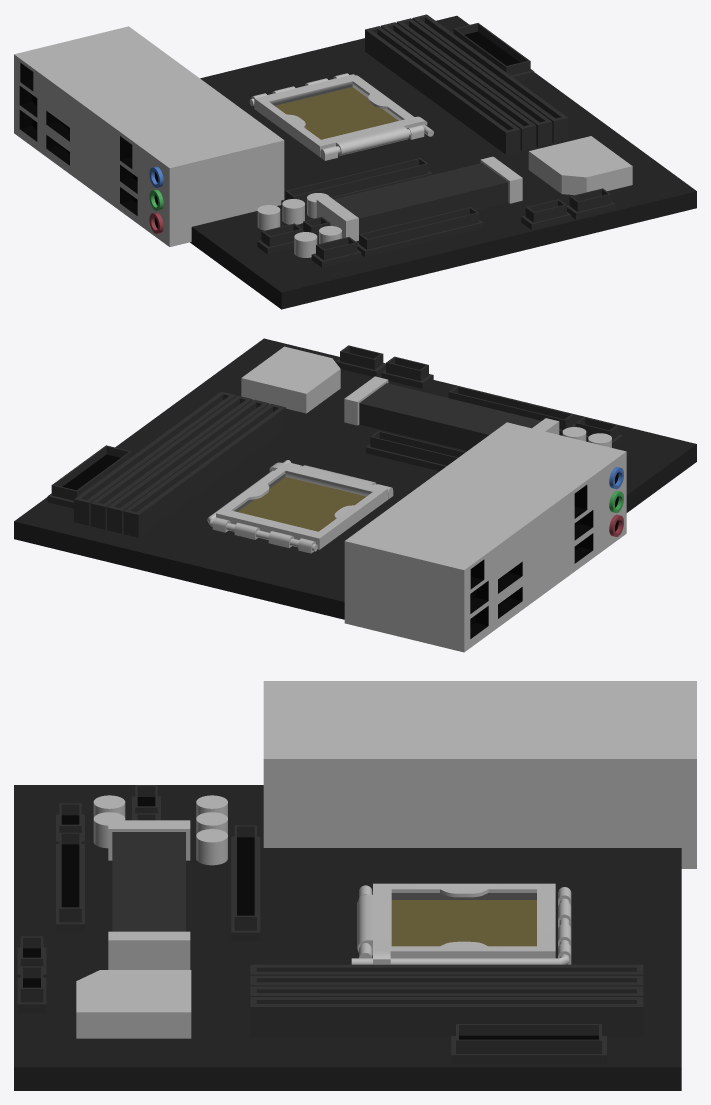
File: NSI AM4 DDR4.fbx
3 renders of one model, top to bottom at view 1: azimuth 30°, elevation 25°; view 2: azimuth 150°, elevation 25°; view 3: azimuth 270°, elevation 25°, orthographic. The views are drawn at different scales.
Parts seen in each view (by area): view 1: Plane, Cube.002, Cube.006, Cube.014, Cube.008, Cube.013, Cube.007, Cube.019, Cube.024, Cylinder.011, Cube.023, Cube.015 (+6 smaller); view 2: Cube.002, Plane, Cube.006, Cube.014, Cube.008, Cube.013, Cube.007, Cube.023, Cube.024, Cube.019, Cube.015, Cylinder.004 (+6 smaller); view 3: Plane, Cube.002, Cube.006, Cube.008, Cube.013, Cube.014, Cube.007, Cube.023, Cube.015, Cube.024, Cylinder.011, Cube.019 (+6 smaller).
Part boxes in pixels (x1,y1,x2,y2): Plane: (190,15,696,309); Cube.002: (14,26,284,246); Cube.006: (365,14,567,154); Cube.014: (333,163,508,234); Cube.008: (254,74,427,156); Cube.013: (528,136,632,195); Cube.007: (275,87,398,139); Cube.019: (357,207,483,257); Cube.024: (281,158,432,210); Cylinder.011: (257,193,341,257); Cube.023: (453,23,534,81); Cube.015: (316,156,522,241); Cube.002: (344,422,626,652); Plane: (14,338,696,619); Cube.006: (74,391,285,537); Cube.014: (359,383,541,450); Cube.008: (216,462,387,549); Cube.013: (241,346,340,413); Cube.007: (238,477,366,531); Cube.023: (47,445,131,508); Cube.024: (366,431,465,471); Cube.019: (448,386,575,435); Cube.015: (344,376,559,434); Cylinder.004: (212,462,393,553); Plane: (14,785,681,1090); Cube.002: (263,681,696,868); Cube.006: (250,964,643,1037); Cube.008: (357,883,555,964); Cube.013: (76,970,191,1038); Cube.014: (112,832,185,931); Cube.007: (391,900,536,946); Cube.023: (451,1024,606,1063); Cube.015: (108,820,190,969); Cube.024: (231,825,260,940); Cylinder.011: (93,795,227,865); Cube.019: (56,832,84,932).
Bounding box in the file's own units: 250 × 43.93 × 241.
